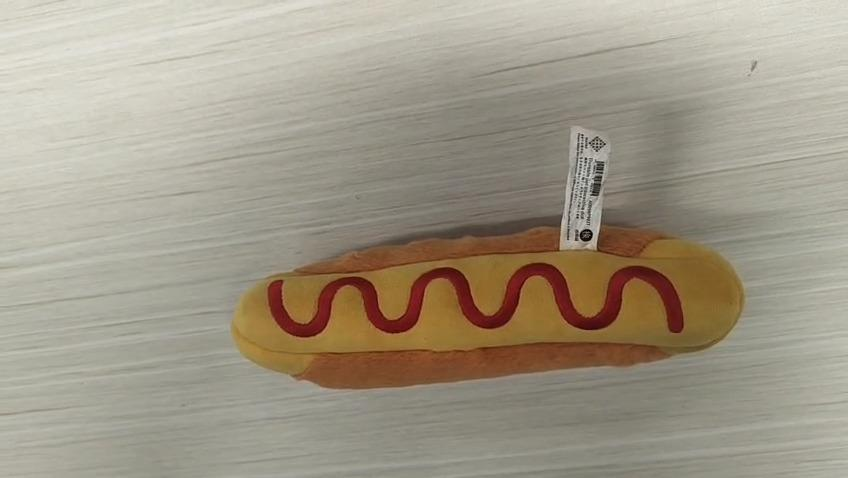hotdog: (230, 222, 745, 390)
